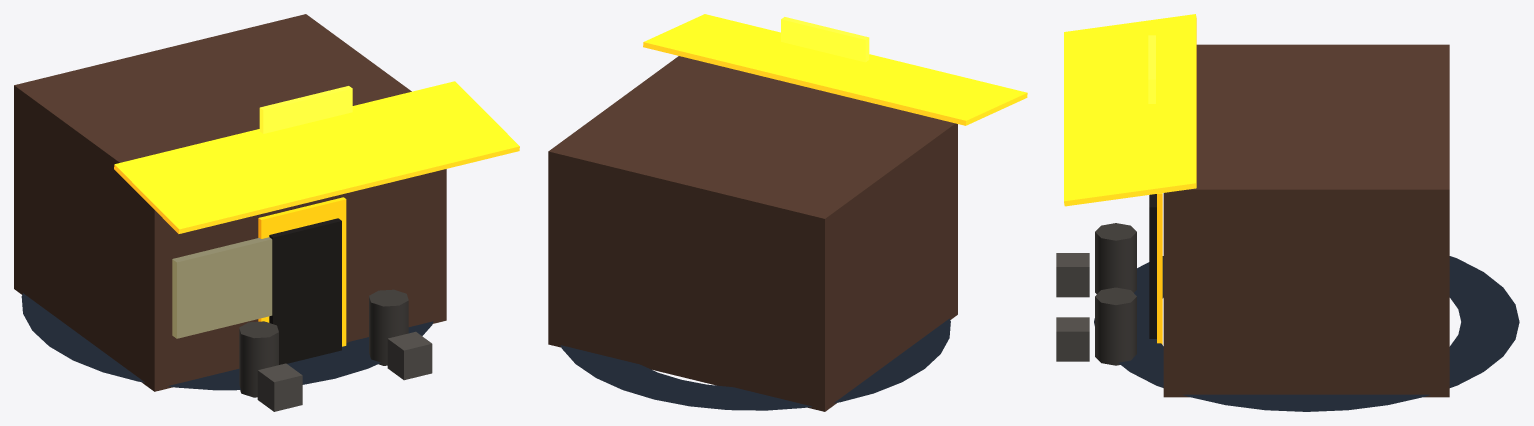
File: cafe.glb
3 renders of one model, left to right at view 1: azimuth 30°, elevation 25°; view 2: azimuth 150°, elevation 25°; view 3: azimuth 270°, elevation 25°, orthographic. The views are drawn at different scales.
Visible parts, largest first — view 1: cafe; view 2: cafe; view 3: cafe.
Boxes of the visible parts, left/top/right/bottom form: cafe: left=14, top=14, right=519, bottom=411; cafe: left=548, top=14, right=1027, bottom=411; cafe: left=1056, top=14, right=1519, bottom=411.
Bounding box in the file's own units: 4.46 × 3.09 × 4.86.
